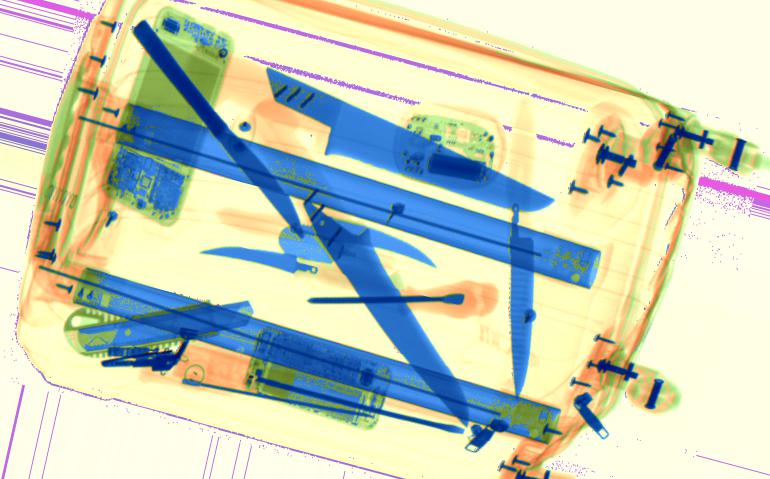Knife: (262, 66, 558, 215), (300, 197, 470, 428), (130, 20, 304, 239), (280, 215, 438, 269), (507, 200, 535, 401), (199, 246, 318, 282), (280, 223, 331, 263)
